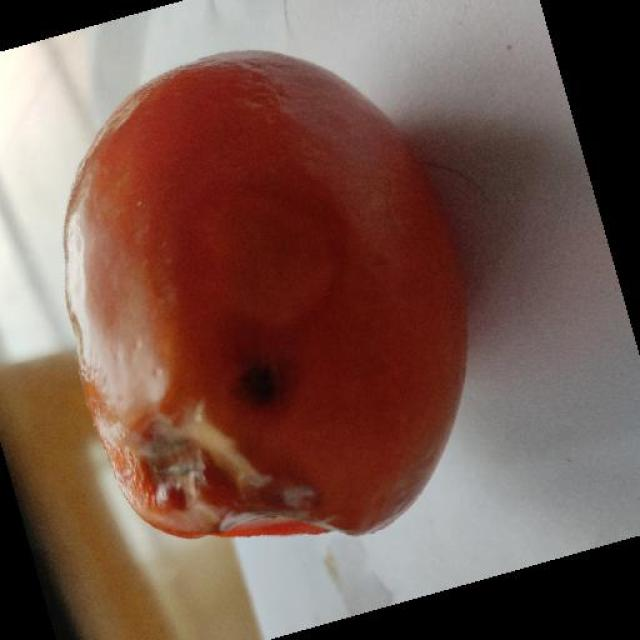Stale_tomato: (60, 62, 443, 518)
